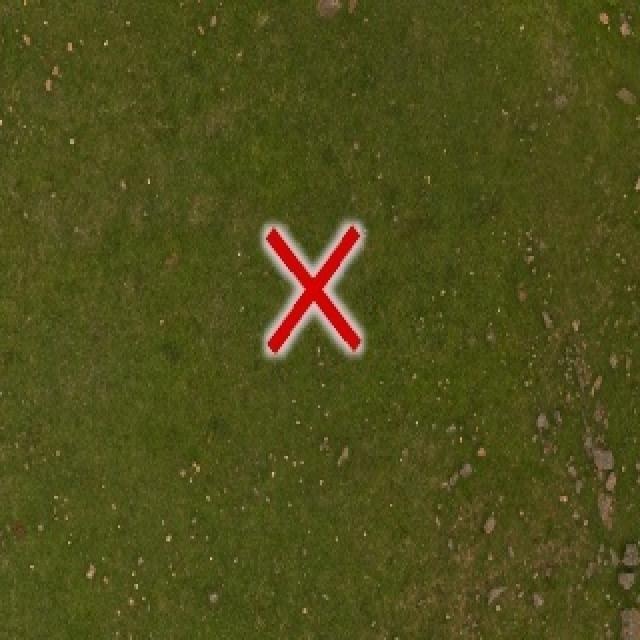x_marker: (265, 225, 359, 351)
